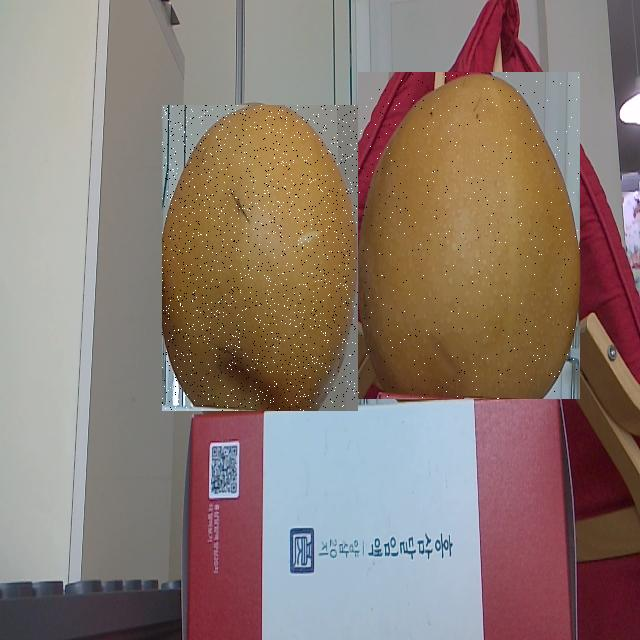pear: (358, 72, 580, 399), (162, 105, 358, 411)
